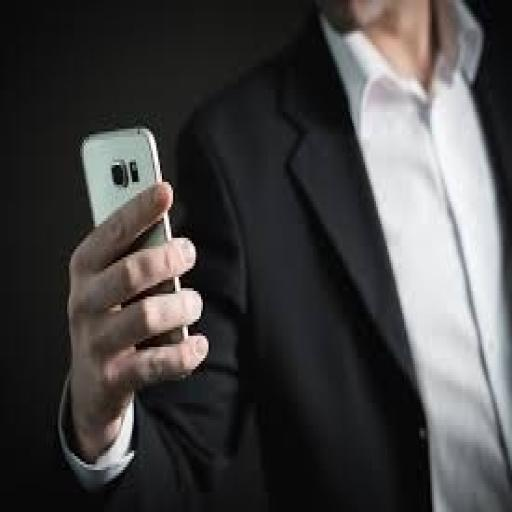texting: (52, 0, 510, 509)
